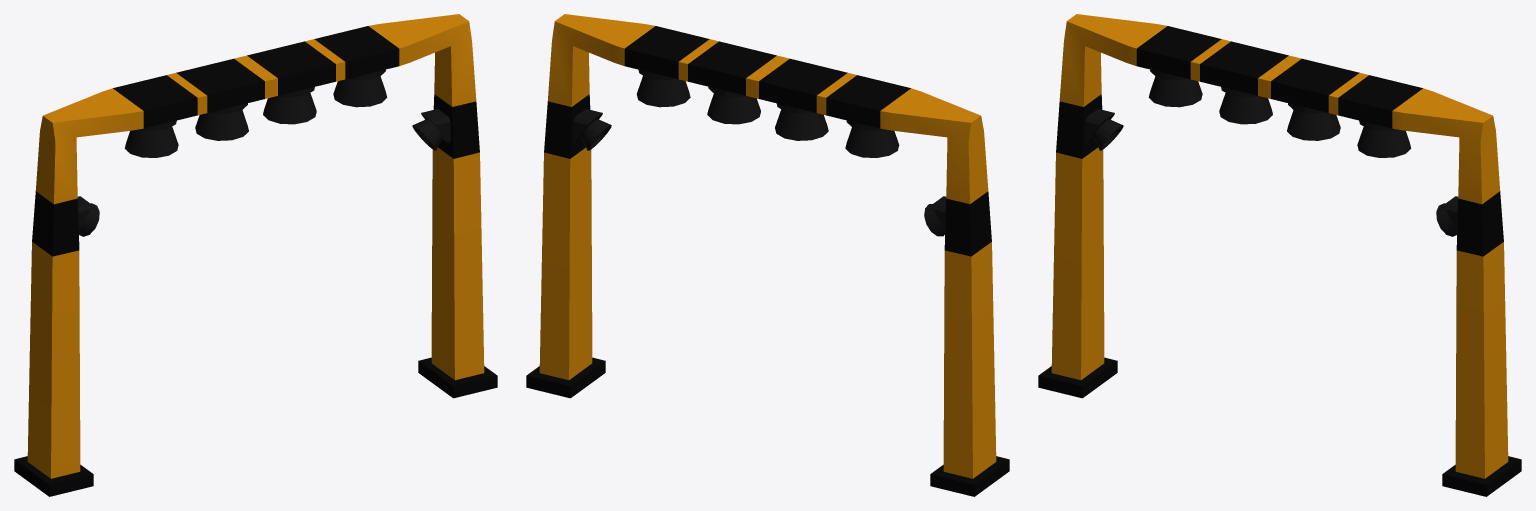
Rendered from PaintingRobotfbx.fbx.
3 renders of one model, left to right at view 1: azimuth 30°, elevation 25°; view 2: azimuth 150°, elevation 25°; view 3: azimuth 330°, elevation 25°, orthographic.
Parts seen in each view (by area): view 1: Painting; view 2: Painting; view 3: Painting.
Part boxes in pixels (box(x1,y1,x2,y2)): Painting: box(14, 14, 497, 496); Painting: box(526, 14, 1009, 496); Painting: box(1038, 14, 1521, 496).
Bounding box in the file's own units: 532 × 410 × 72.
